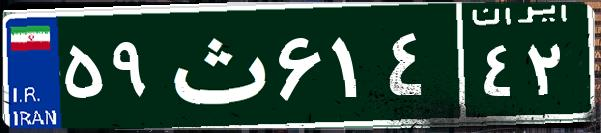1: (330, 28, 385, 110)
2: (525, 38, 570, 115)
4: (385, 28, 445, 110), (475, 38, 525, 113)
5: (57, 26, 110, 107)
6: (273, 28, 330, 110)
9: (110, 28, 158, 105)
ث: (158, 15, 273, 115)
